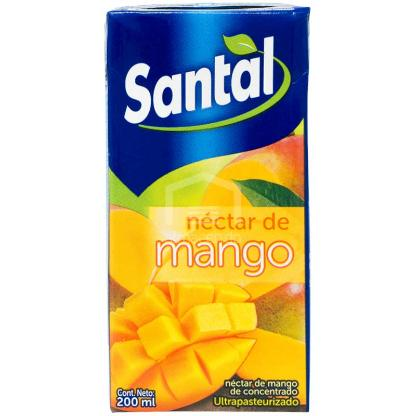Others: (102, 2, 314, 416)
